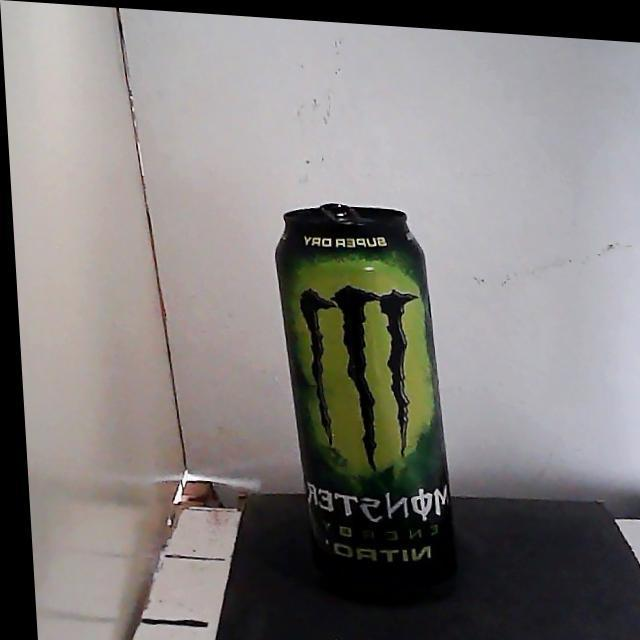metal: (276, 204, 456, 600)
